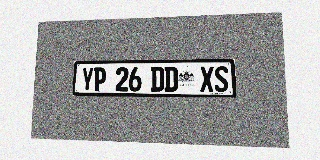2: (115, 67, 128, 91)
6: (128, 67, 142, 91)
D: (164, 66, 178, 92), (151, 67, 164, 92)
P: (93, 67, 106, 91)
S: (214, 66, 229, 92)
X: (200, 66, 214, 92)
Y: (81, 67, 94, 91)
